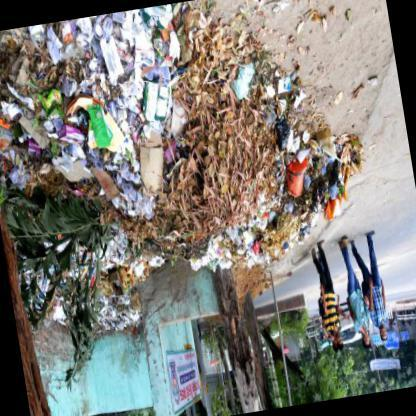Garbage: (24, 49, 142, 174), (111, 1, 206, 109), (90, 138, 172, 212), (0, 53, 39, 183), (308, 149, 374, 225), (27, 17, 100, 82), (189, 226, 272, 278), (282, 122, 343, 186), (110, 268, 148, 303), (110, 303, 146, 335)
